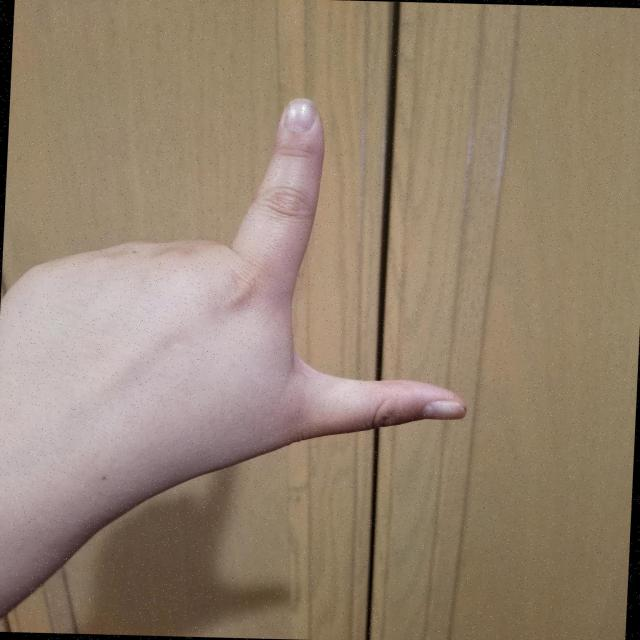L: (0, 82, 495, 515)
